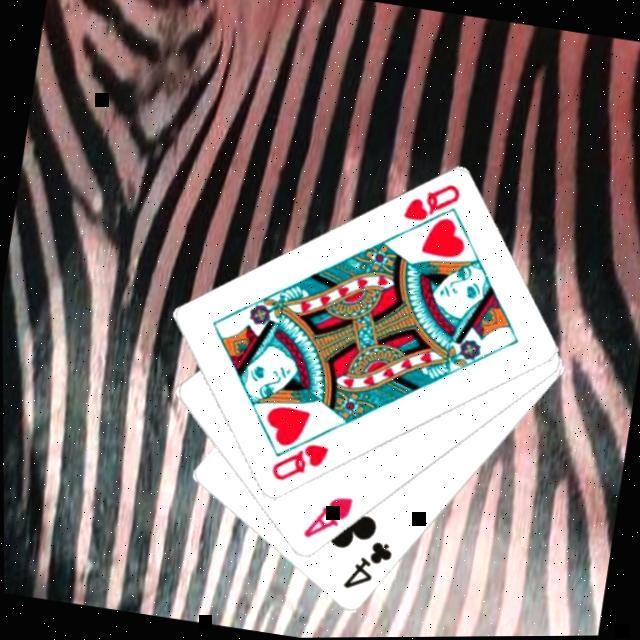4C: (340, 536, 398, 601)
AH: (298, 491, 358, 551)
QH: (397, 178, 466, 248), (266, 438, 334, 494)
